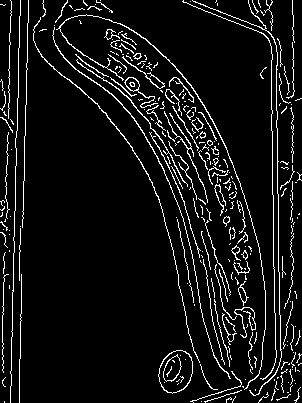cucumber: (49, 11, 267, 390)
